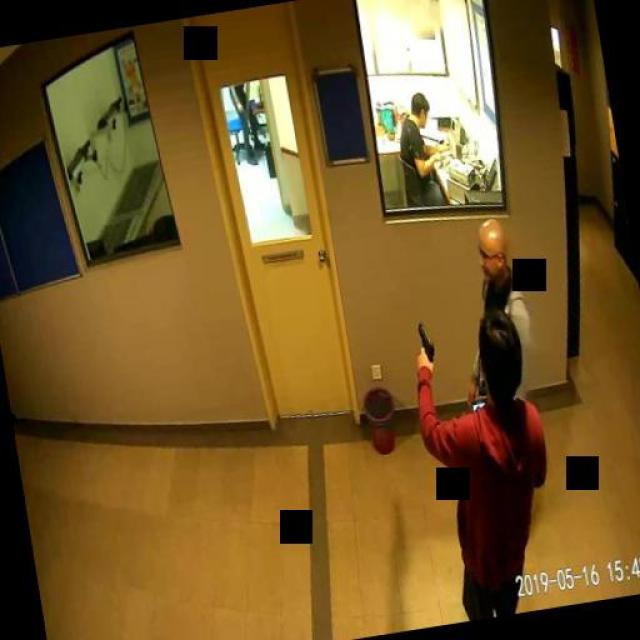gun: (411, 320, 434, 365)
